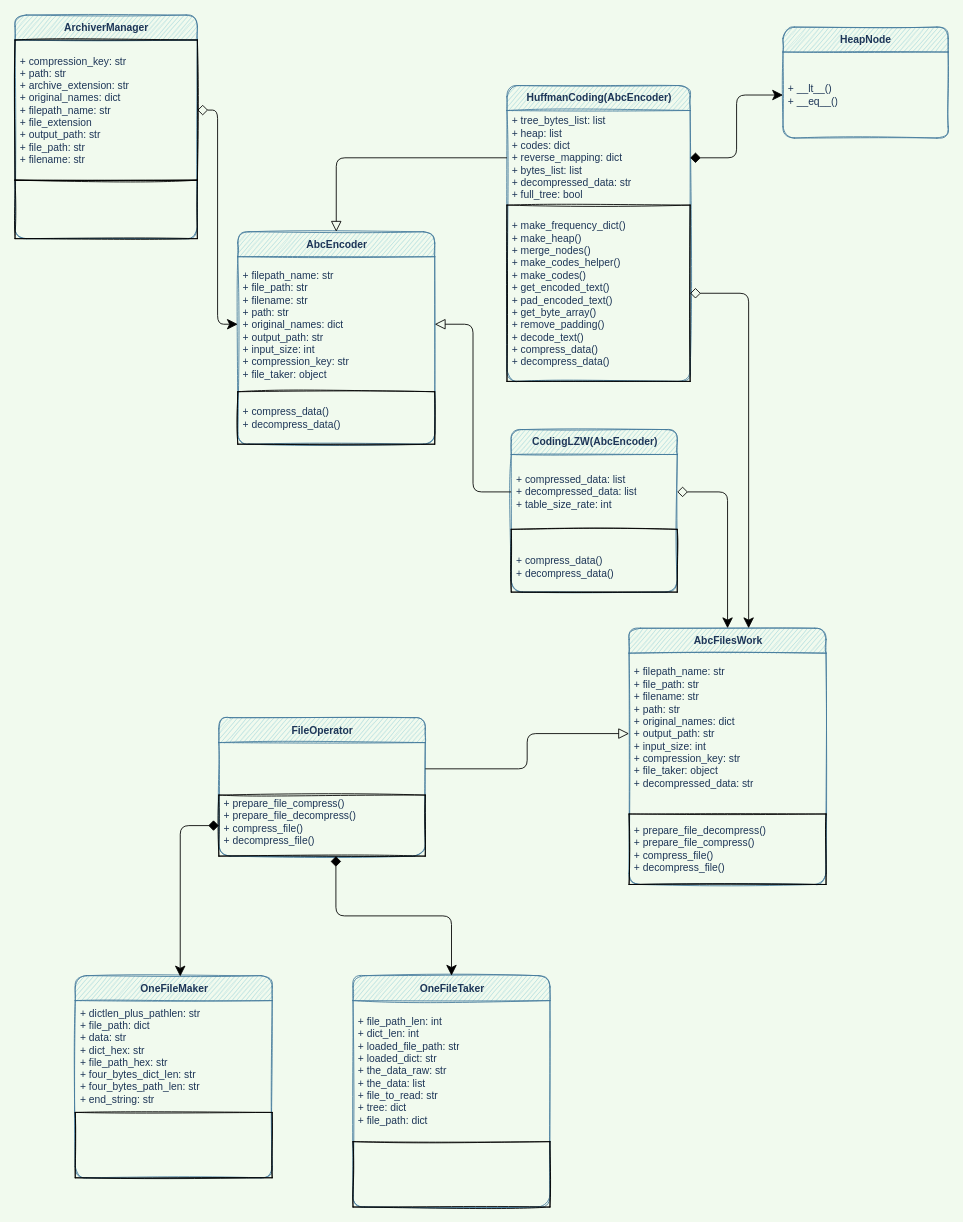
The diagram is 963 pixels wide and 1222 high, and some of its shapes have lost their labels. The centre of each missing label's shape, as x and y in pixels:
"+ convert_hex_to_bin() + convert_base64_to_dict() + read_file_info()" belongs at point (451, 1174).
"+ hex_factory() + hex_dict_factory() + bin_len_string() + final_data()" belongs at point (173, 1145).
"+ manage_compression() + final_result_visual: staticmethod" belongs at point (105, 209).
